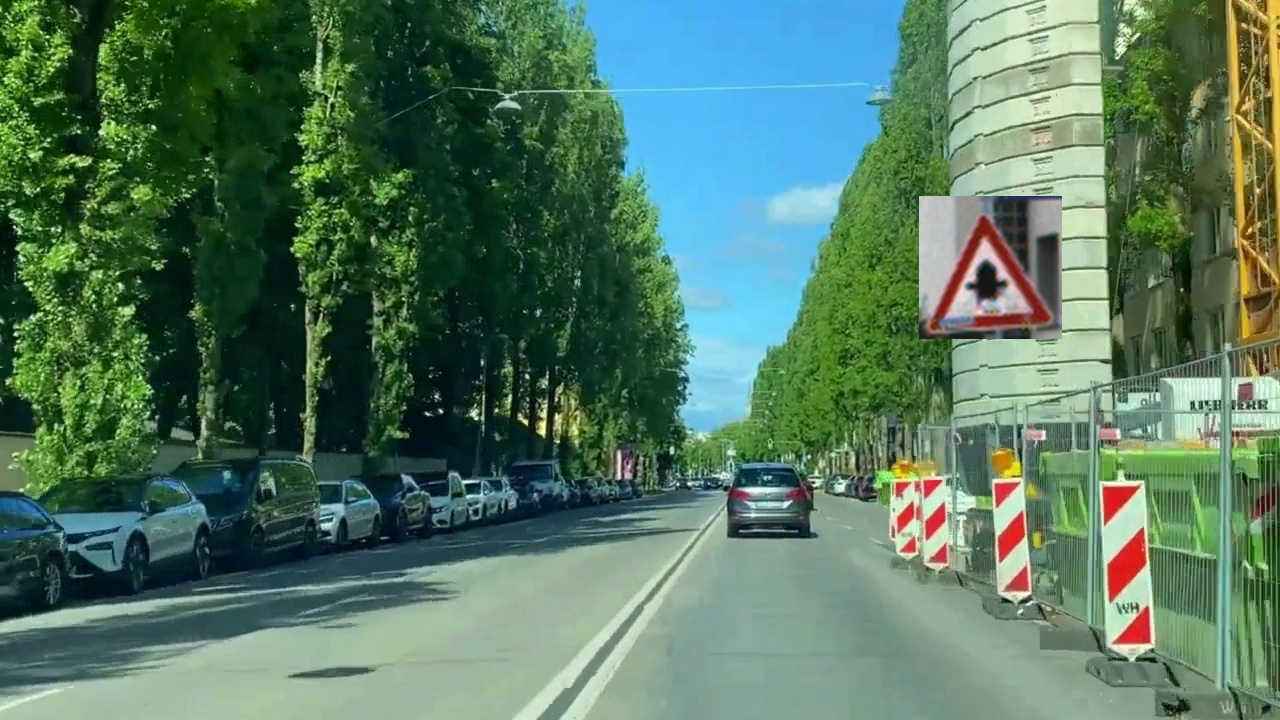Right-of-way: (919, 196, 1062, 339)
